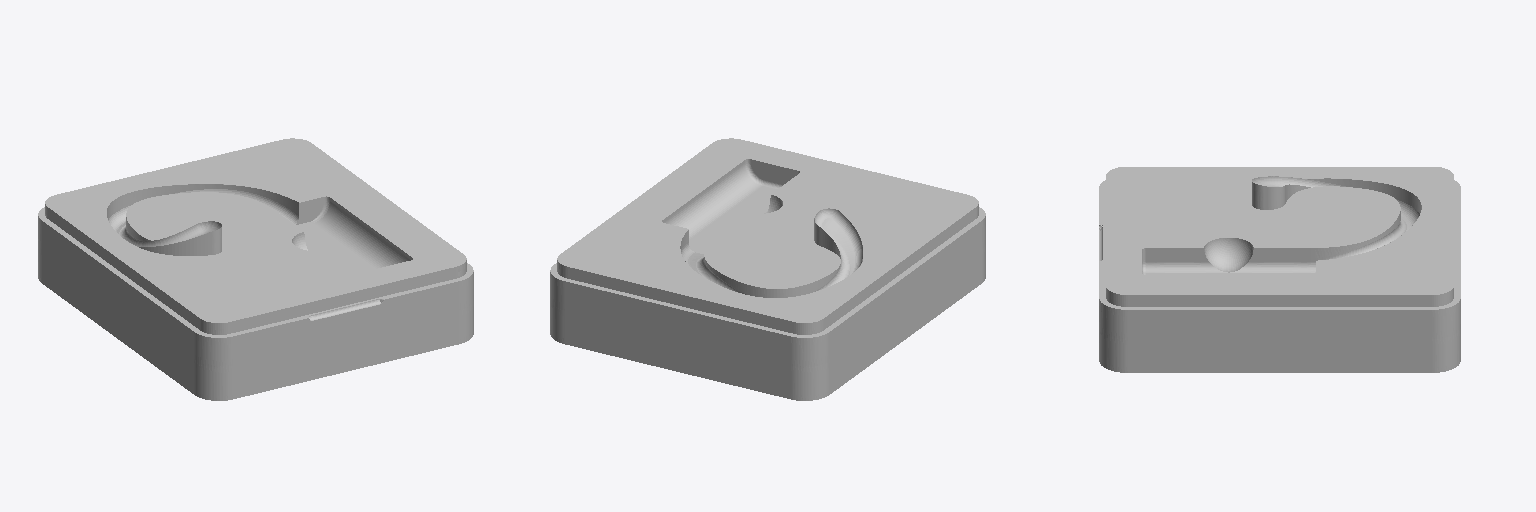
Rendered from editedBottom.obj.
The picture shows the model from 3 angles: view 1: azimuth 30°, elevation 25°; view 2: azimuth 150°, elevation 25°; view 3: azimuth 270°, elevation 25°; orthographic projection.
Visible parts, largest first — view 1: Bottom; view 2: Bottom; view 3: Bottom.
Boxes of the visible parts, x1,y1,x2,y2 form: Bottom: [38, 138, 473, 400]; Bottom: [550, 138, 985, 400]; Bottom: [1099, 167, 1460, 372].
Size of the model in its own units: 73.2 by 25.23 by 83.2.